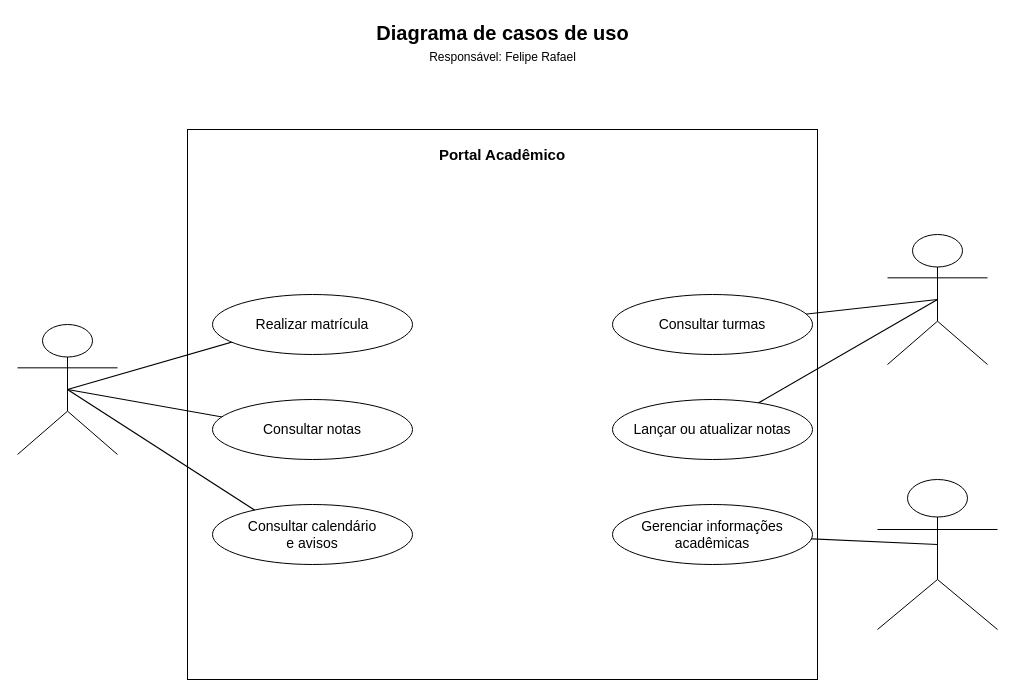
Image size: 1015x697. Some labels were removed from this diagram. Each missing label, with the centre of its shape:
"Aluno" goes at point 67,389.
"Professor" goes at point 937,299.
"Secretaria / Coordenação" goes at point 937,554.
